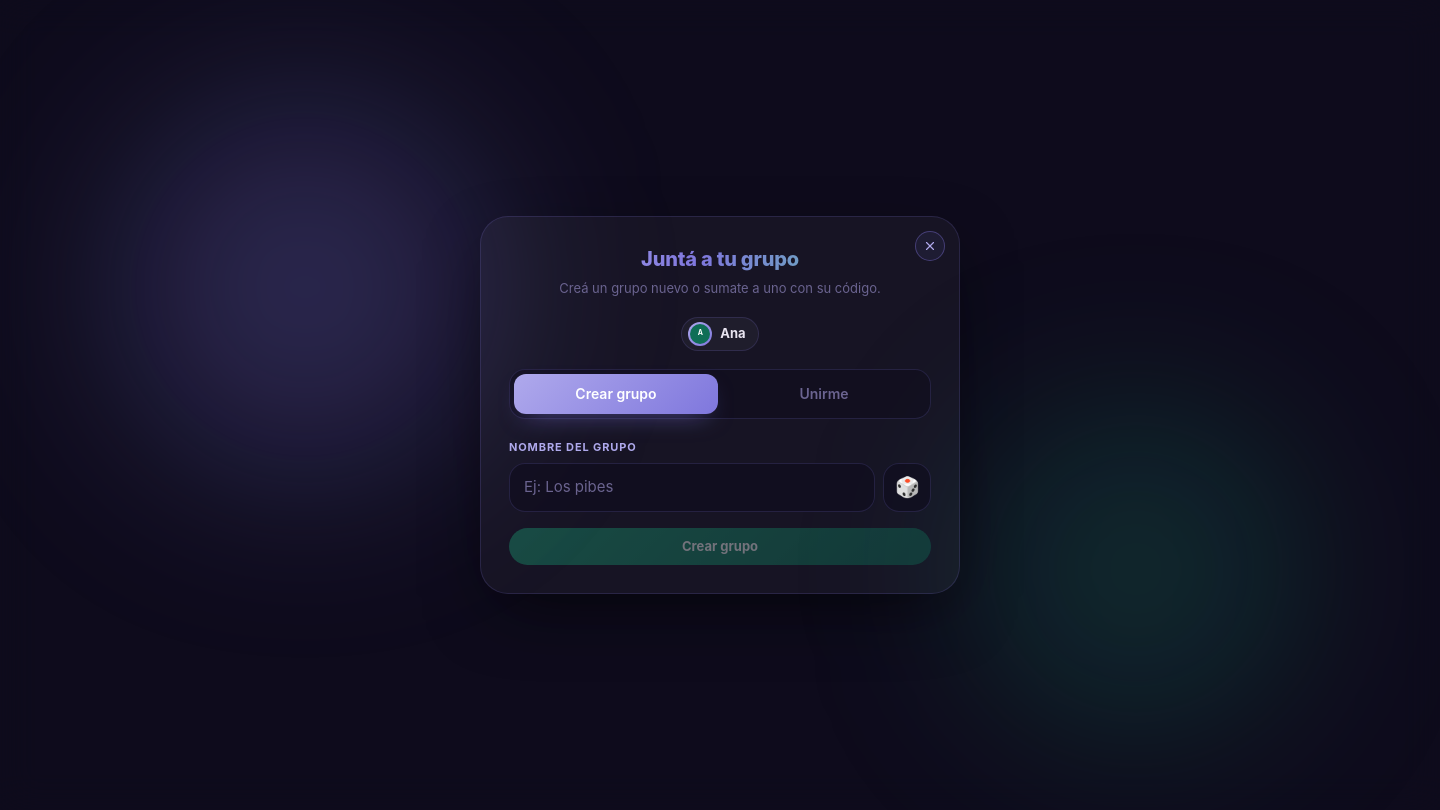
Scenario: MultiplayerGame — group flow › creating a group shows its code and member list
The image size is (1440, 810).
Type "Los pibes" into the field with placeholder "Ej: Los pibes" at [692, 487], box left=509, top=463, right=875, bottom=512
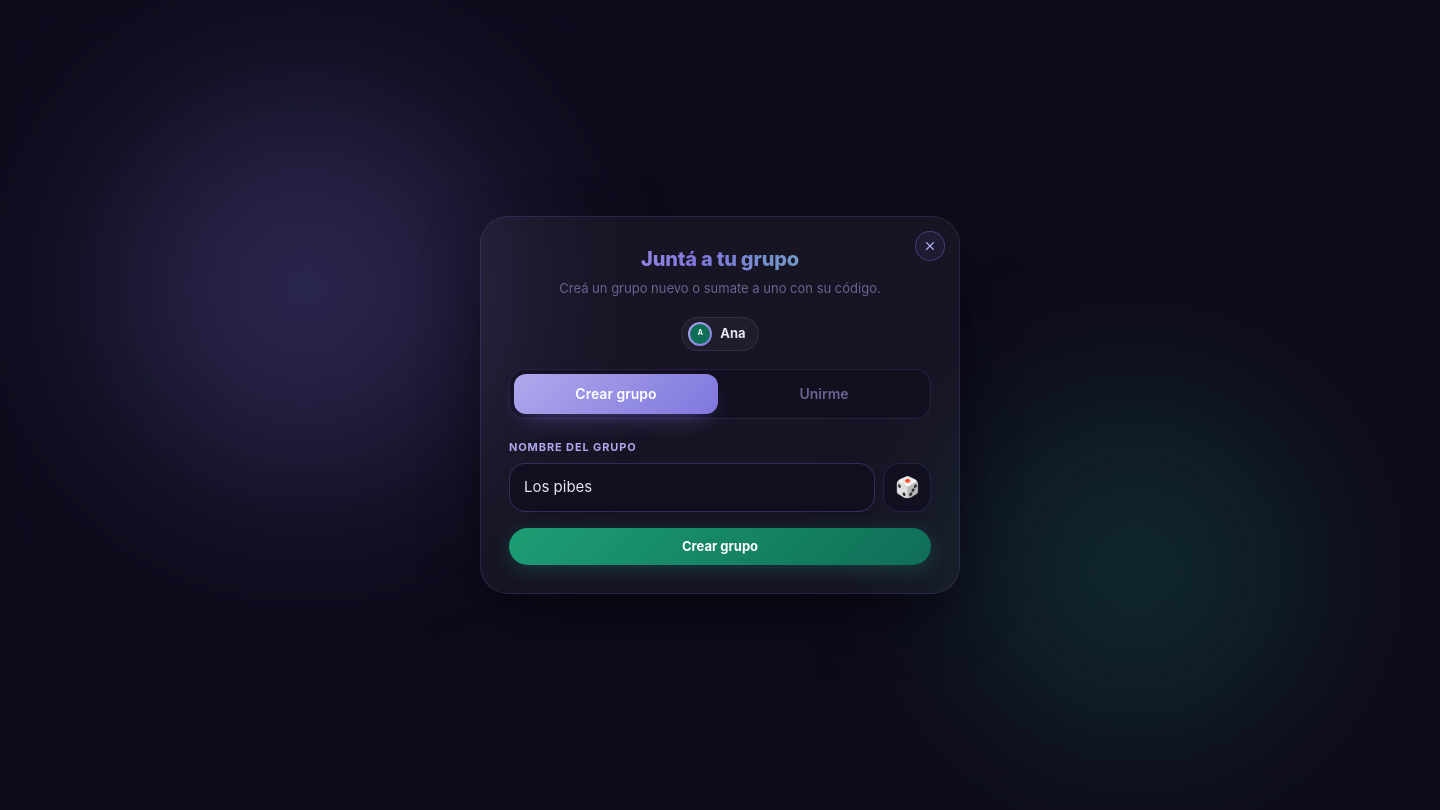
Click the button "Crear grupo" at [720, 546], box left=509, top=528, right=931, bottom=565
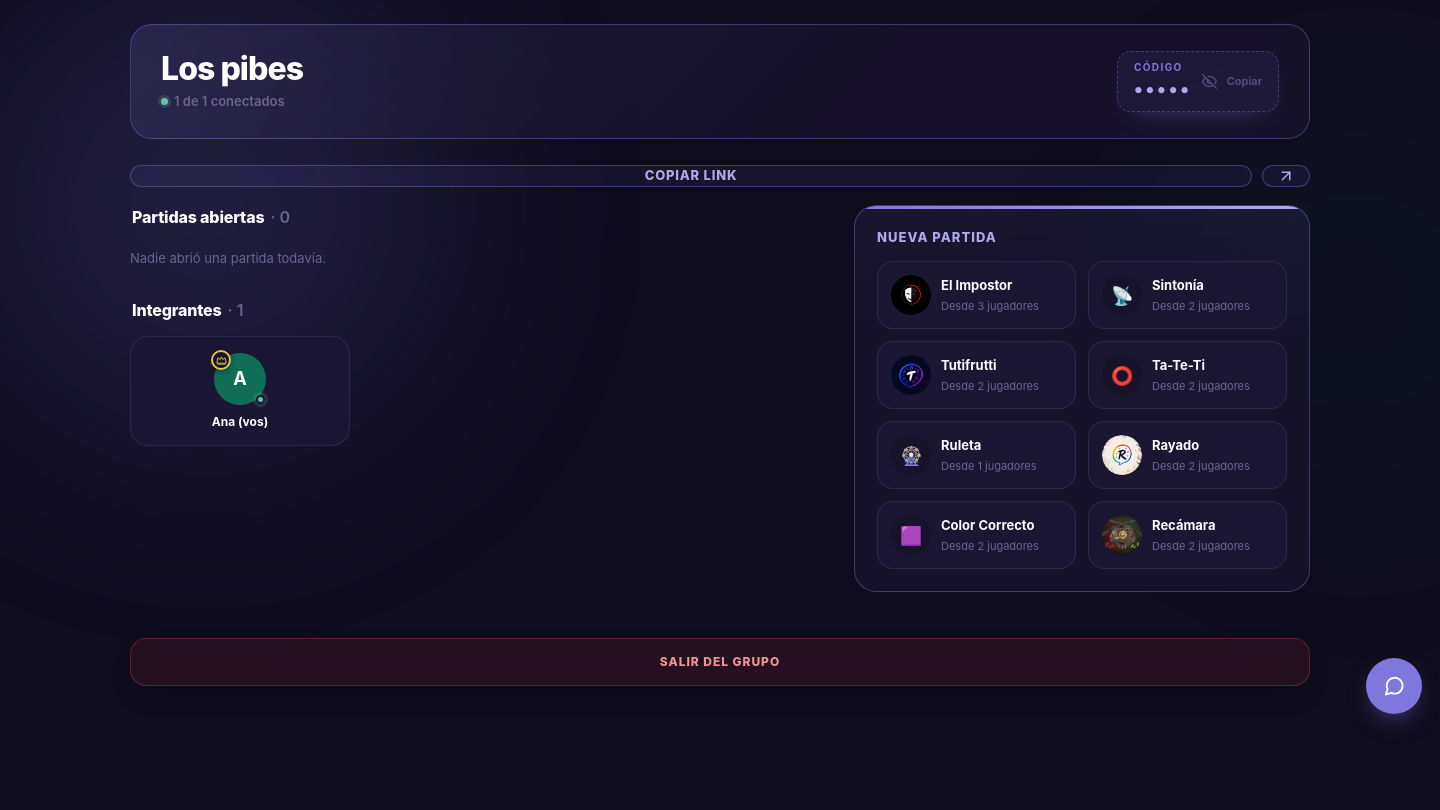
Now the text "•••••" is shown, box left=1134, top=75, right=1192, bottom=103
Now the heading "Los pibes" is shown, box left=161, top=51, right=303, bottom=88
Now the text "Nadie abrió una partida todavía." is shown, box left=130, top=250, right=326, bottom=266
